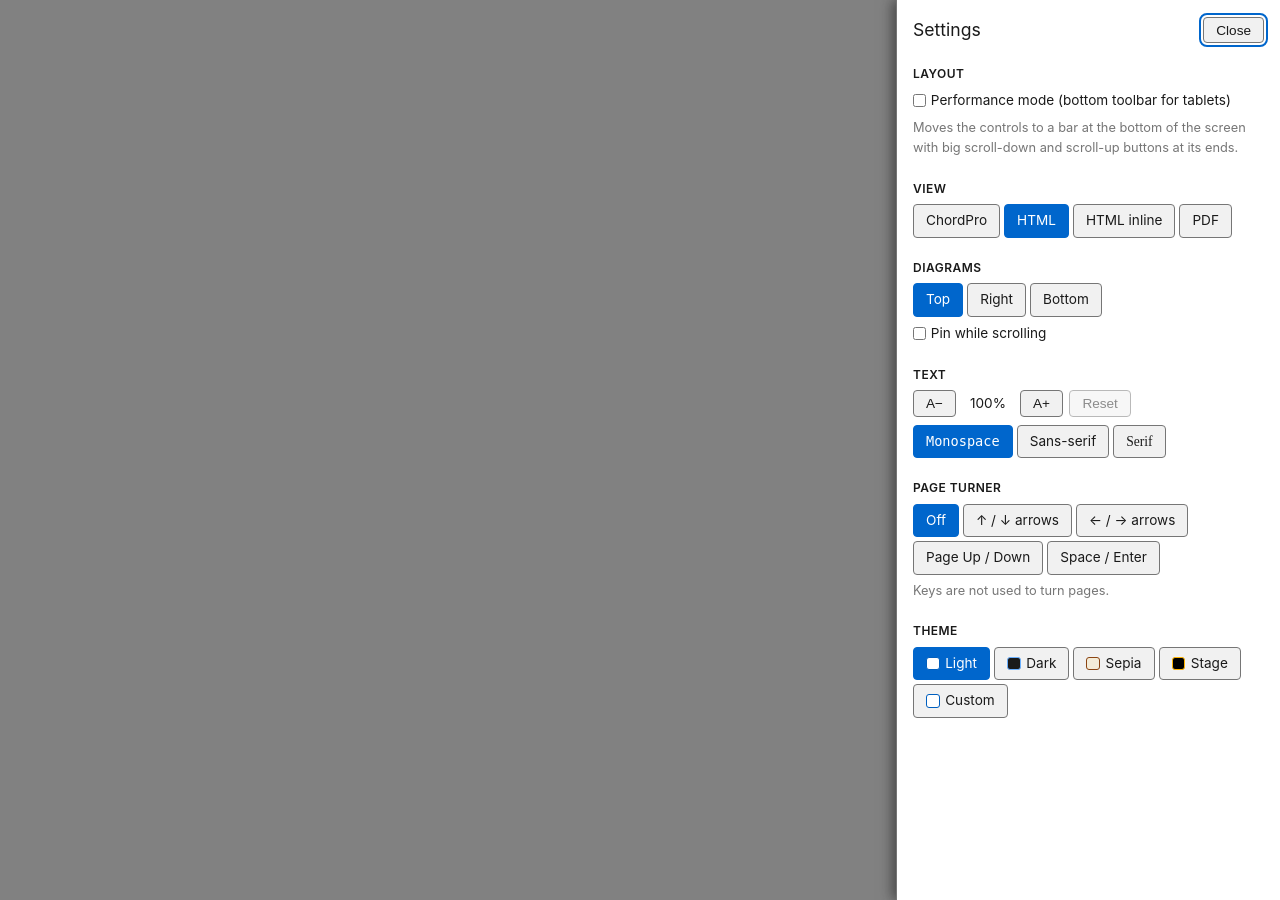
SettingsDrawer › toggles performance mode, which adds the Instrument section
Click the checkbox labelled "Performance mode (bottom toolbar for tablets)" at (920, 101), box top-left (913, 94), bottom-right (926, 107)
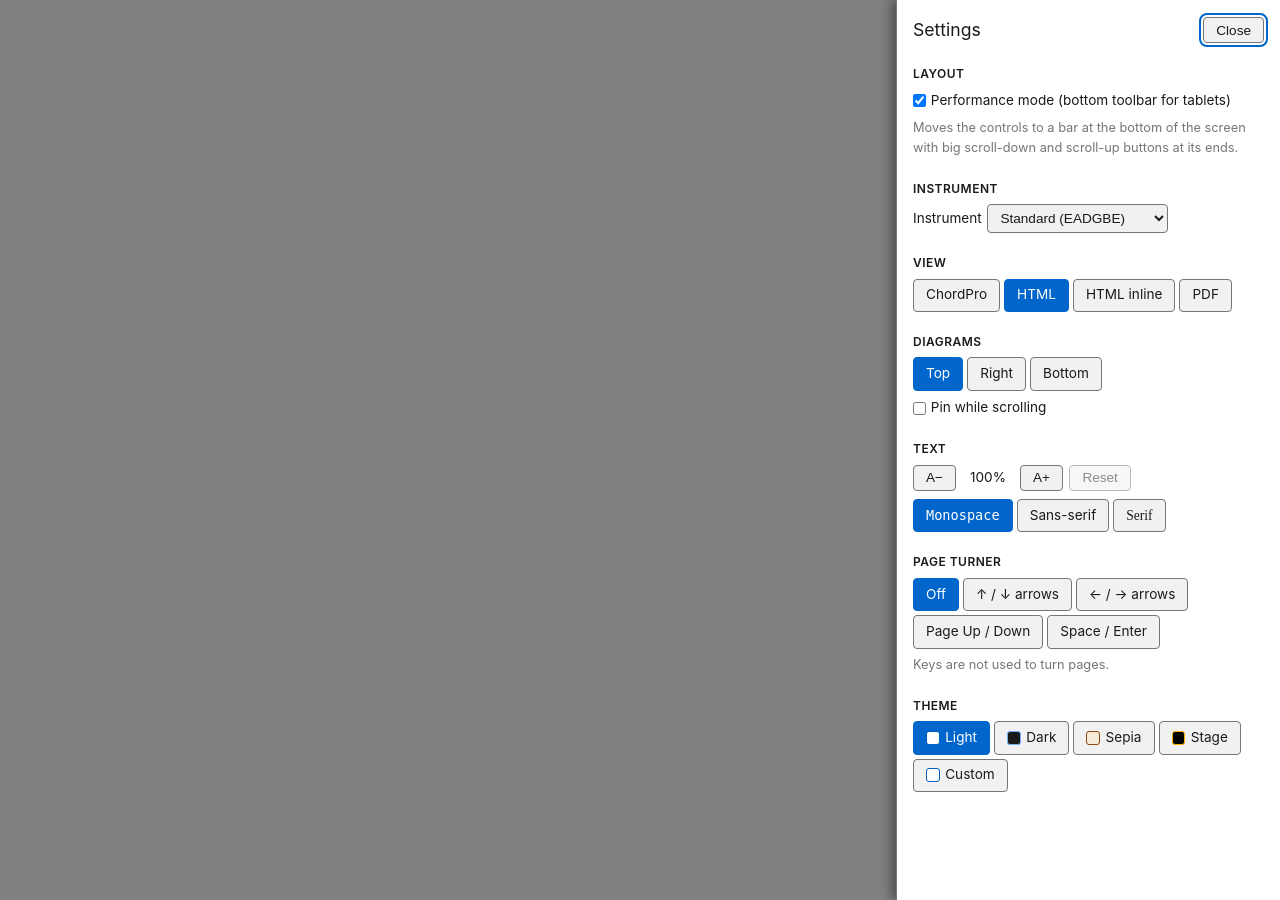
expect the element with class "instrument-selector" is shown: met, box top-left (913, 204), bottom-right (1168, 233)
expect the heading with class "drawer-heading" reads "Instrument": met, box top-left (913, 181), bottom-right (998, 196)
